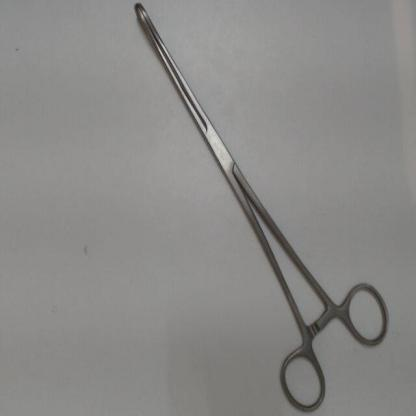Sponge Forceps: (130, 1, 395, 414)
